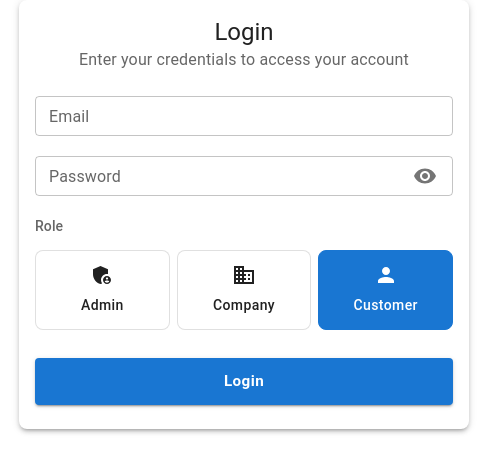
Scenario: LoginForm › Email Validation › should show error for empty email on blur
Click the field labelled "Email": (244, 116) [35,96,453,136]
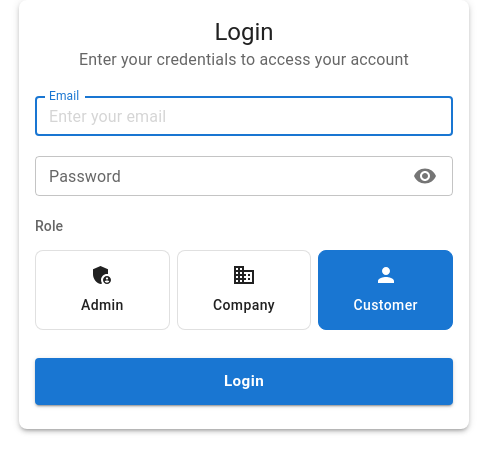
Press Tab
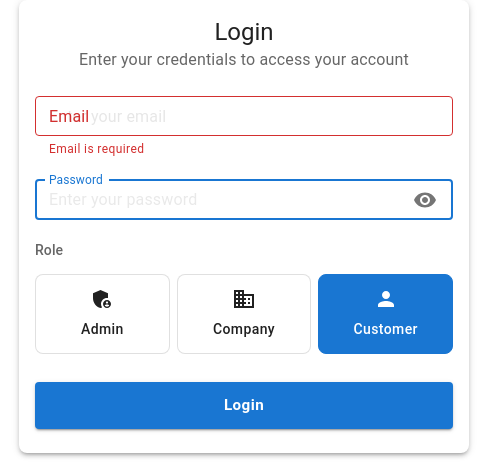
Check: the text "Email is required" is shown, box [49,142,144,156]
